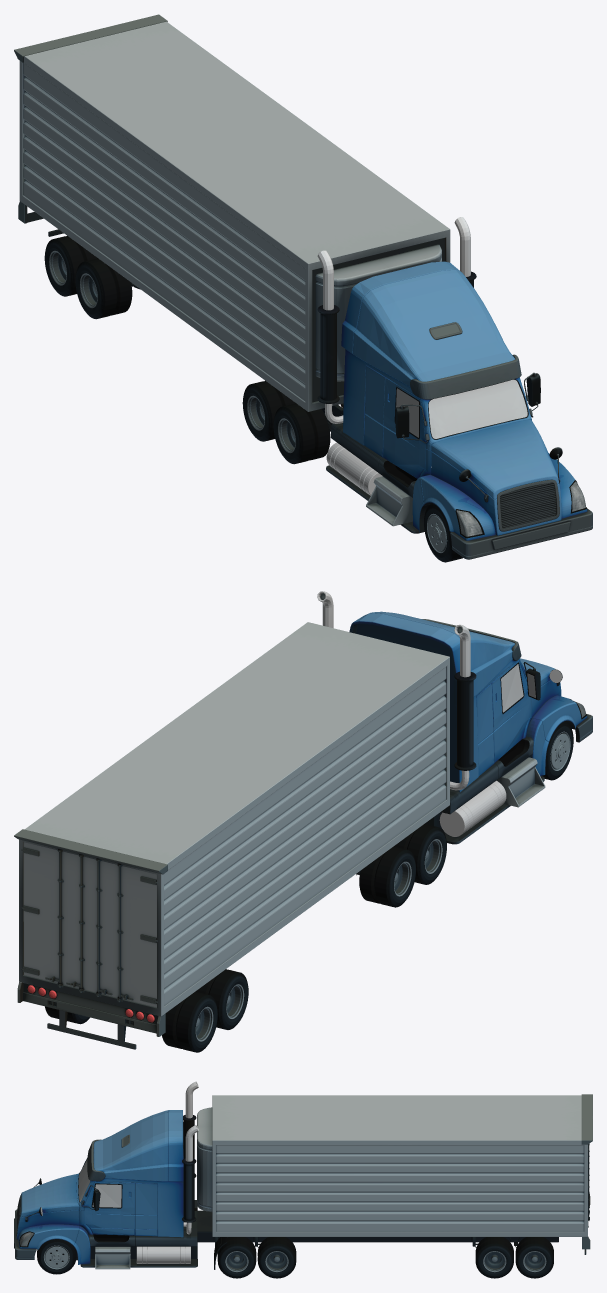
The model's file is truck.glb.
3 renders of one model, top to bottom at view 1: azimuth 30°, elevation 25°; view 2: azimuth 150°, elevation 25°; view 3: azimuth 270°, elevation 25°, orthographic. The views are drawn at different scales.
Size of the model in its own units: 2.03 by 2.91 by 10.03.
Materials: 1 (1 with a texture image).
